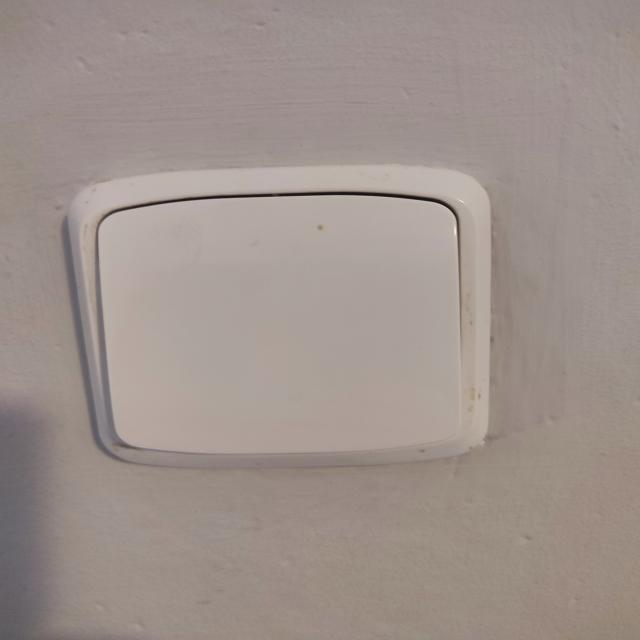house switch: (67, 163, 490, 468)
